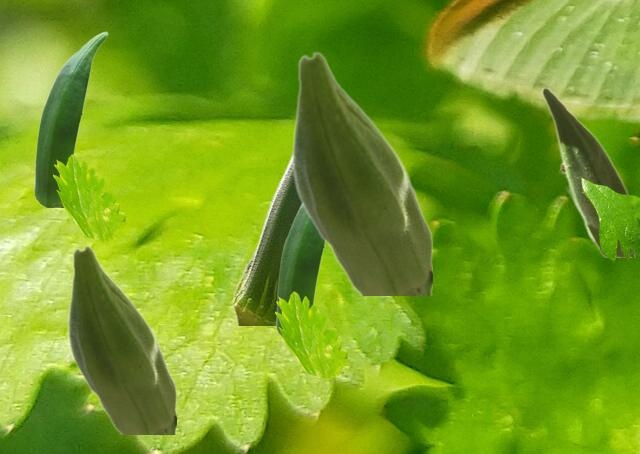okra: (291, 51, 431, 294), (67, 245, 175, 433), (541, 86, 635, 256), (33, 31, 107, 206), (232, 157, 299, 324), (275, 204, 326, 338)
